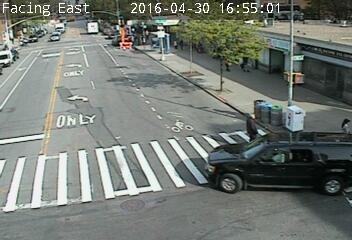neg: (49, 146, 67, 171), (309, 148, 325, 169), (93, 66, 108, 87), (230, 49, 243, 66), (207, 164, 218, 179)
pos: (242, 112, 265, 142)
